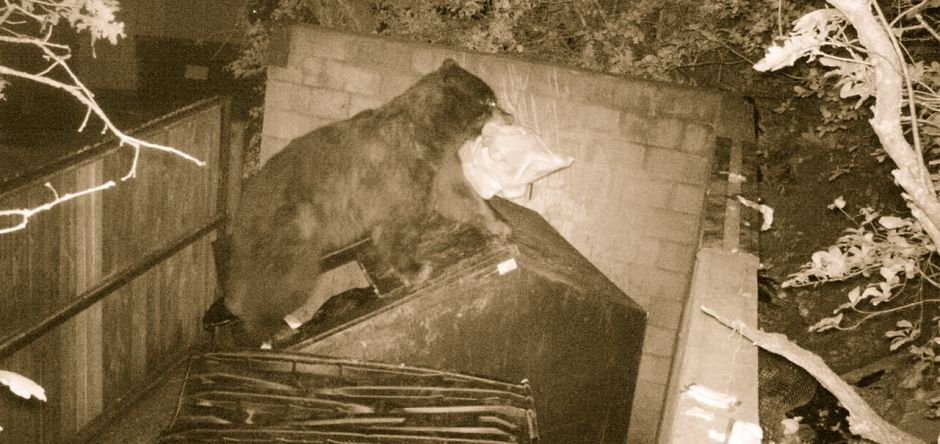bear: (208, 55, 538, 346)
